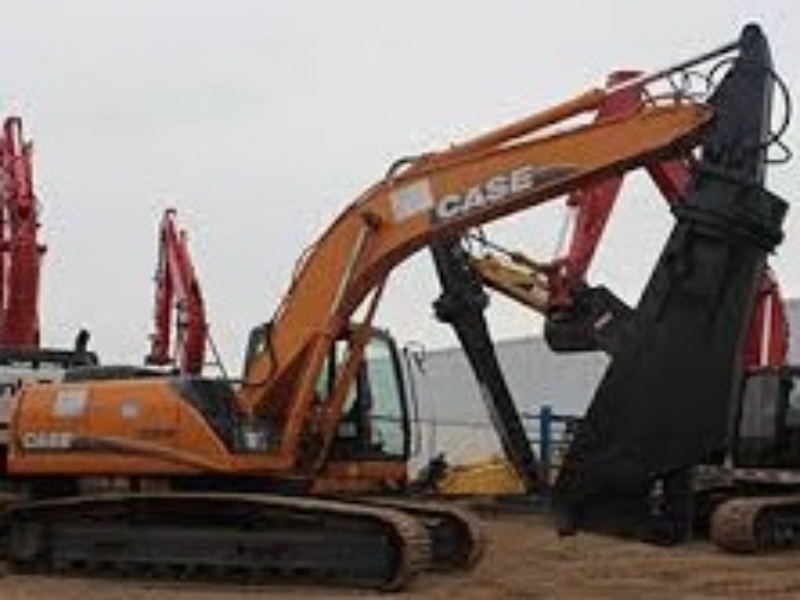wajueji: (4, 175, 610, 600)
